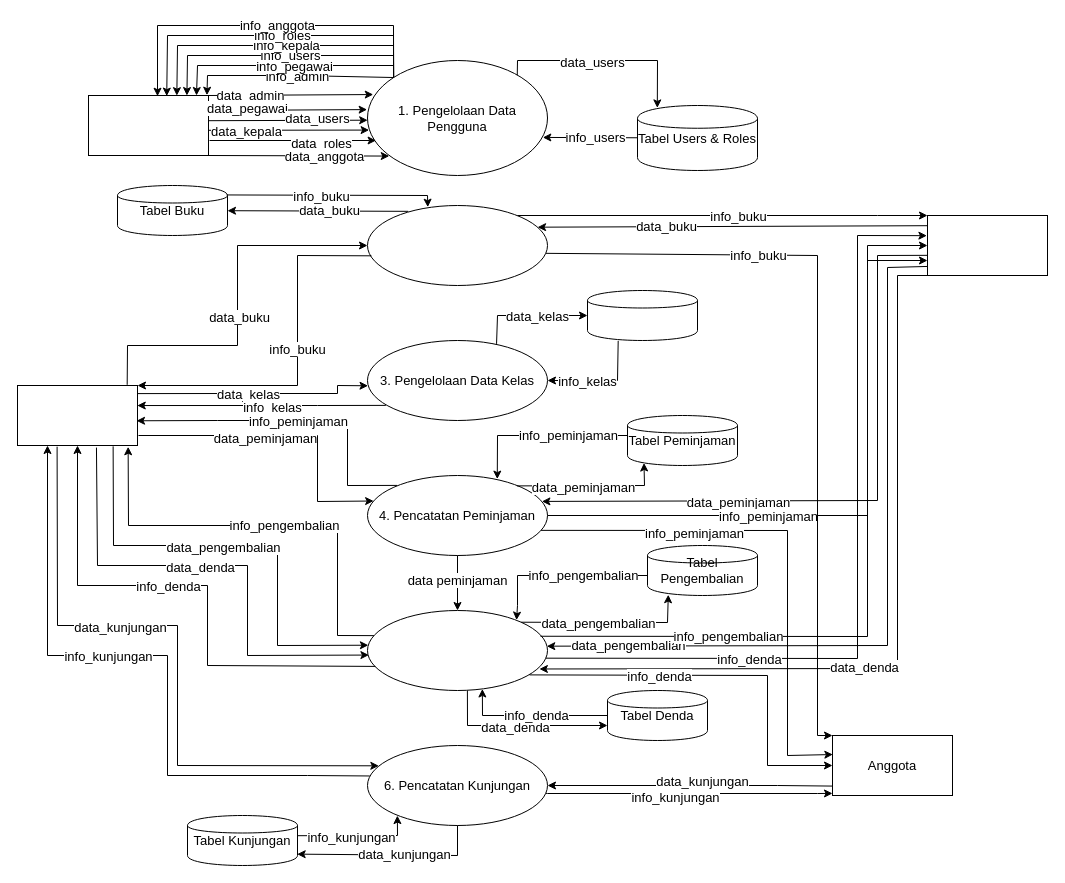
The diagram is 1065 pixels wide and 883 high, and some of its shapes have lost their labels. Here are the shapes that lost their labels. From the top down, the box of each, then its label:
(88, 94, 208, 156): Admin
(366, 204, 548, 286): 2. Pengelolaan Data Buku
(926, 214, 1048, 276): Pegawai
(586, 290, 698, 340): Tabel Kelas
(16, 384, 138, 446): Kepala Perpustakaan
(366, 610, 548, 690): 5. Pengembalian & Denda
